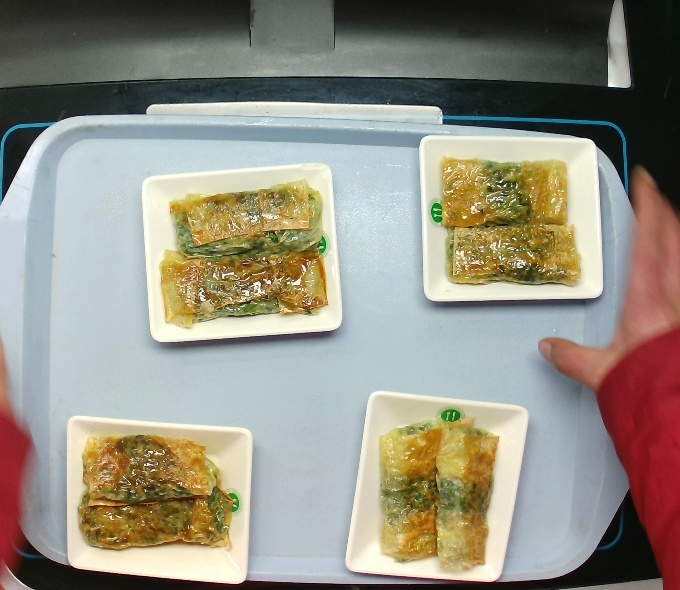wcq-CaiBao: (153, 184, 329, 323), (373, 412, 497, 572), (436, 151, 583, 284), (80, 432, 237, 554)
